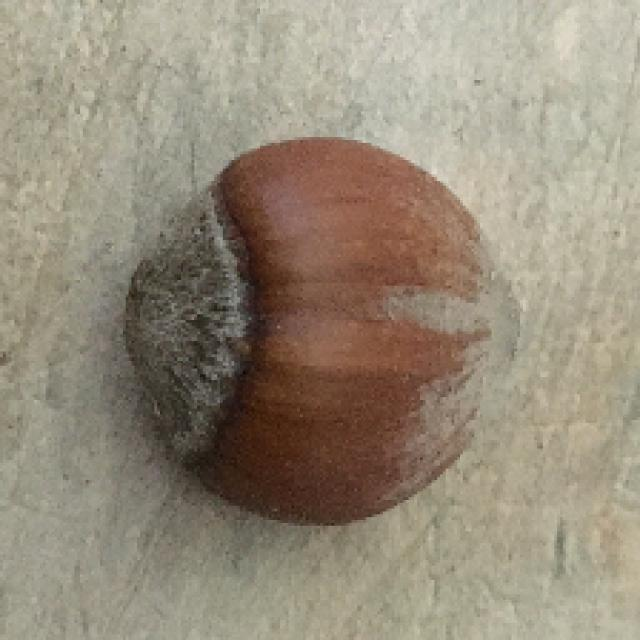qualityHazelnut: (120, 136, 522, 525)
